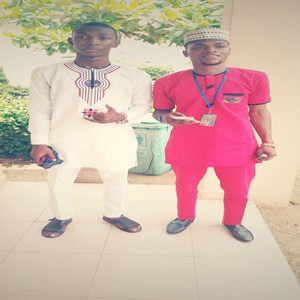Fulokoja_male_student: (28, 22, 137, 236), (156, 30, 259, 238)
